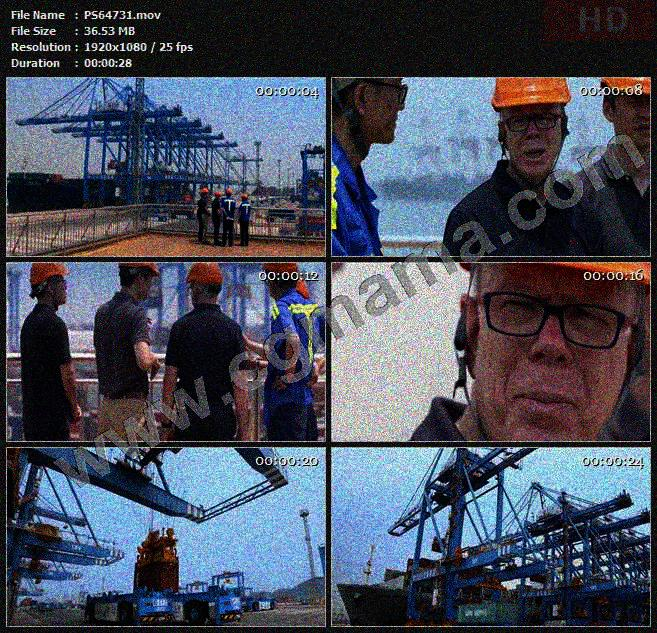helmet: (460, 262, 652, 442), (492, 72, 575, 187), (596, 75, 657, 146), (29, 262, 76, 311), (186, 262, 227, 309), (119, 259, 164, 300), (260, 261, 300, 300), (200, 187, 209, 198), (241, 193, 249, 202), (225, 187, 233, 196), (214, 190, 222, 199)
